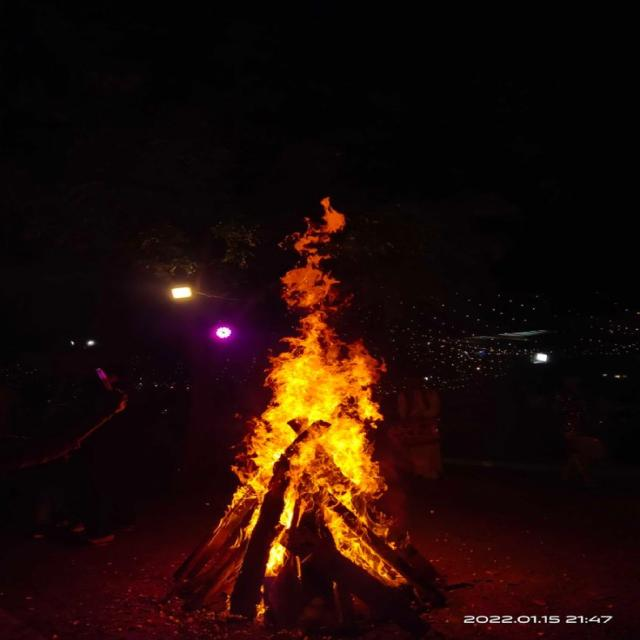fire: (226, 195, 406, 590)
